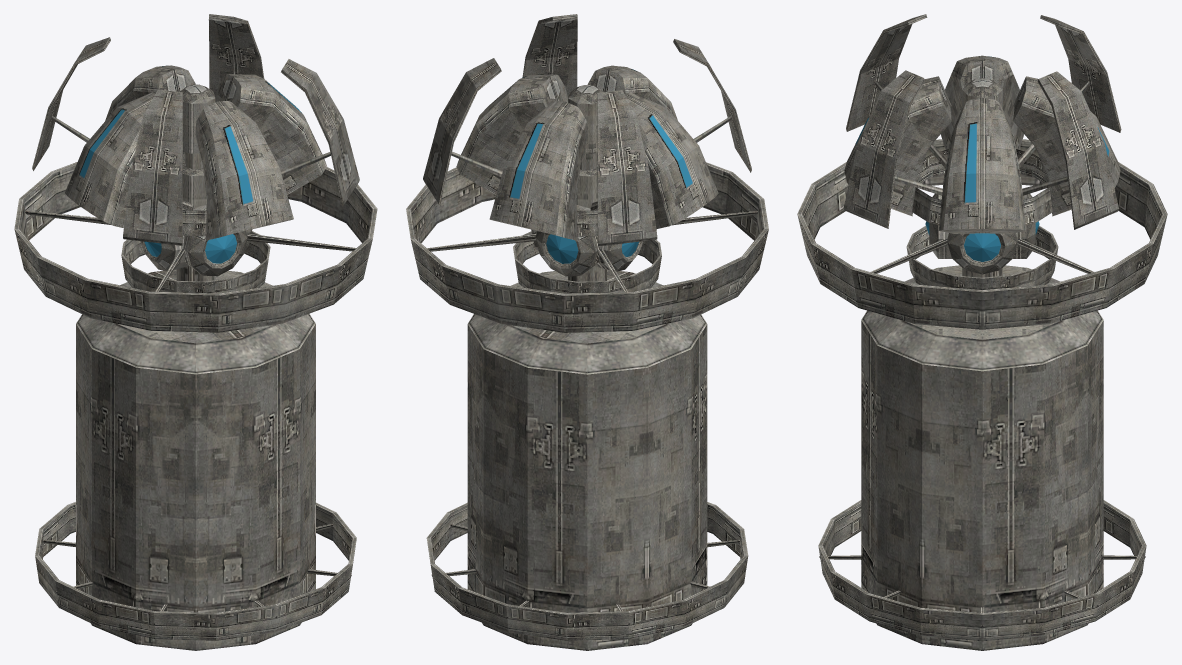
File: eaw_fuelCellA.glb
3 views of the same model, side by side, from view 1: azimuth 30°, elevation 25°; view 2: azimuth 150°, elevation 25°; view 3: azimuth 270°, elevation 25° (orthographic).
Parts seen in each view (by area): view 1: polymsh_0, polymsh_1; view 2: polymsh_0, polymsh_1; view 3: polymsh_0, polymsh_1.
Boxes of the visible parts, left/top/right/bottom form: polymsh_0: left=14, top=14, right=377, bottom=650; polymsh_1: left=79, top=65, right=301, bottom=263; polymsh_0: left=406, top=14, right=768, bottom=650; polymsh_1: left=510, top=69, right=692, bottom=263; polymsh_0: left=797, top=14, right=1167, bottom=650; polymsh_1: left=856, top=56, right=1109, bottom=261.
Bounding box in the file's own units: 30.59 × 50.42 × 30.59.
Materials: 2 (2 with a texture image).
